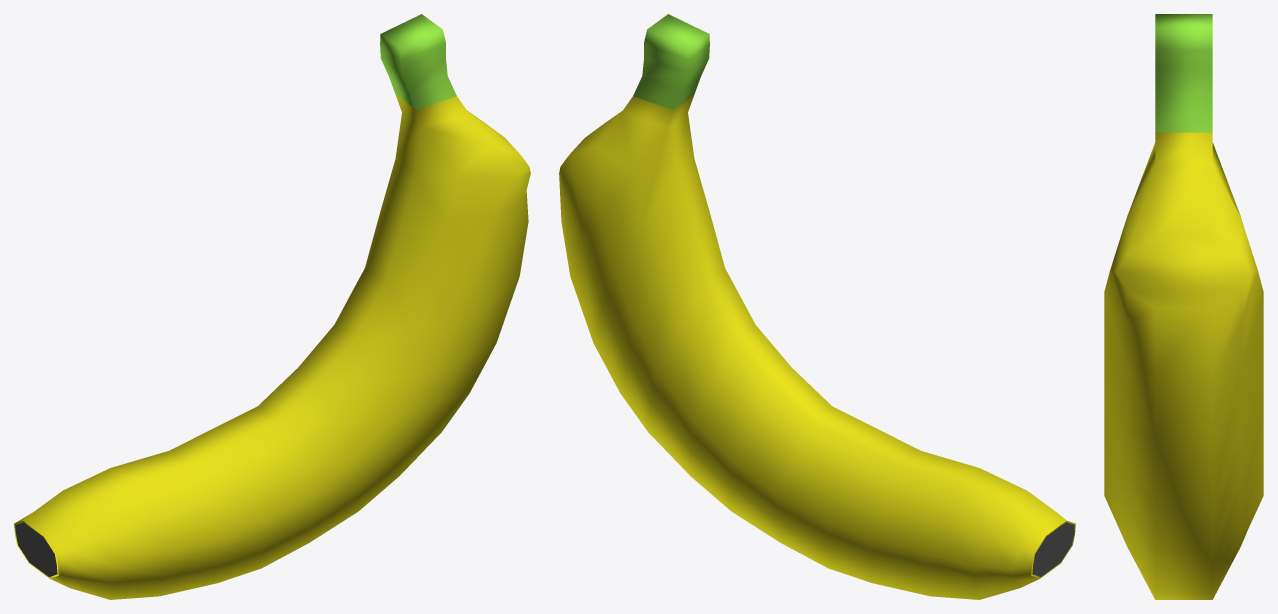
Rendered from banana.glb.
3 renders of one model, left to right at view 1: azimuth 30°, elevation 25°; view 2: azimuth 150°, elevation 25°; view 3: azimuth 270°, elevation 25°, orthographic. The views are drawn at different scales.
Visible parts, largest first — view 1: Cube.002; view 2: Cube.002; view 3: Cube.002.
Part boxes in pixels (box(x1,y1,x2,y2)): Cube.002: box(14, 14, 530, 599); Cube.002: box(559, 14, 1075, 599); Cube.002: box(1104, 14, 1263, 599).
Bounding box in the file's own units: 4.12 × 4.05 × 0.8611.
